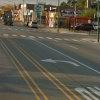Crosswalk: (1, 29, 97, 46)
